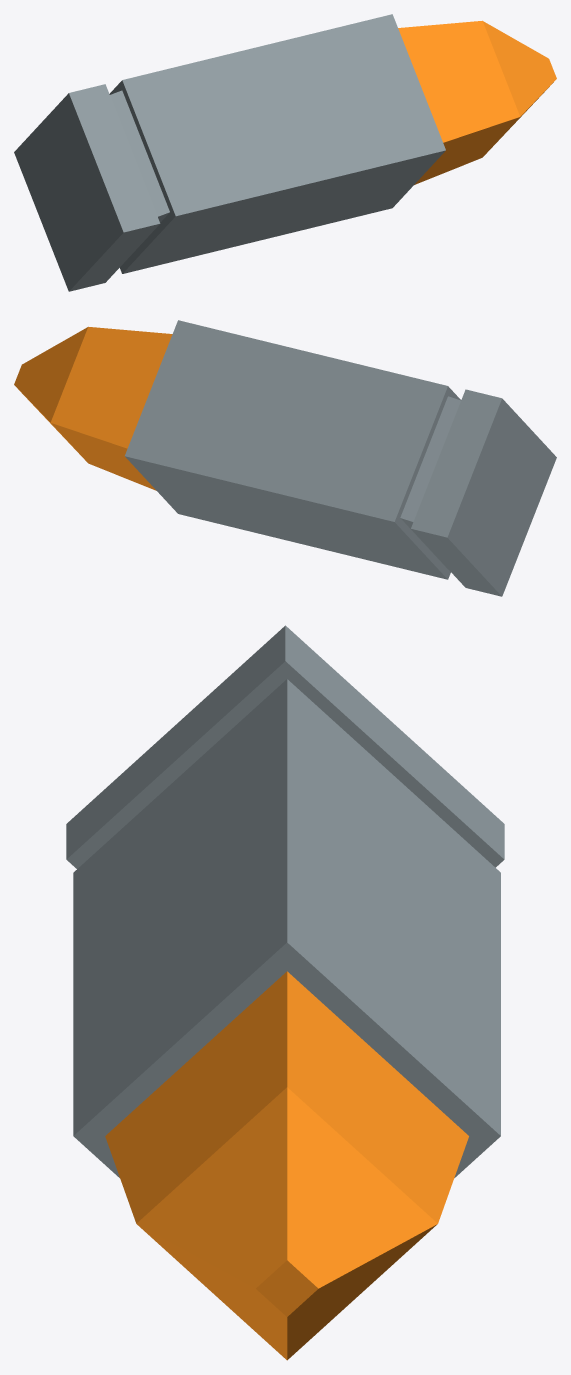
The model's file is bullet.glb.
3 views of the same model, one above another, from view 1: azimuth 30°, elevation 25°; view 2: azimuth 150°, elevation 25°; view 3: azimuth 270°, elevation 25° (orthographic). The views are drawn at different scales.
Parts seen in each view (by area): view 1: bullet-9mm; view 2: bullet-9mm; view 3: bullet-9mm.
Part boxes in pixels (<box>): bullet-9mm: <box>14,14,556,291</box>; bullet-9mm: <box>14,320,556,596</box>; bullet-9mm: <box>66,625,504,1360</box>.
Size of the model in its own units: 0.0239 by 0.00943 by 0.00943.
1 material, 1 textured.
